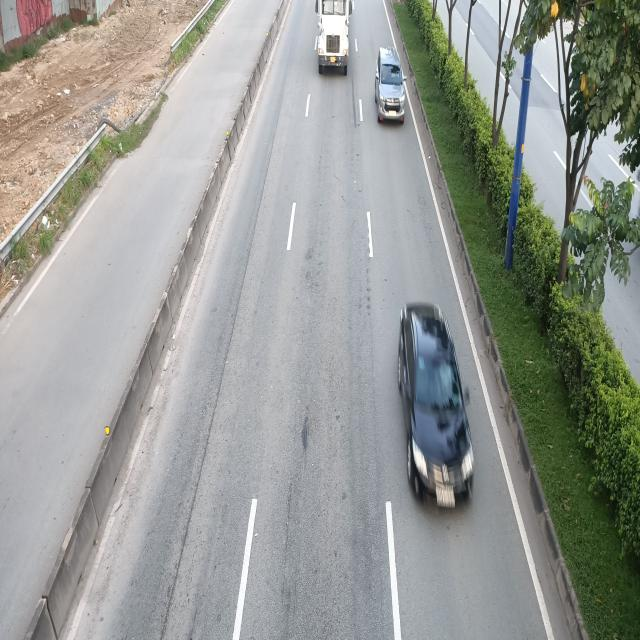car: (395, 303, 473, 517), (373, 46, 404, 121)
container: (316, 0, 354, 70)
